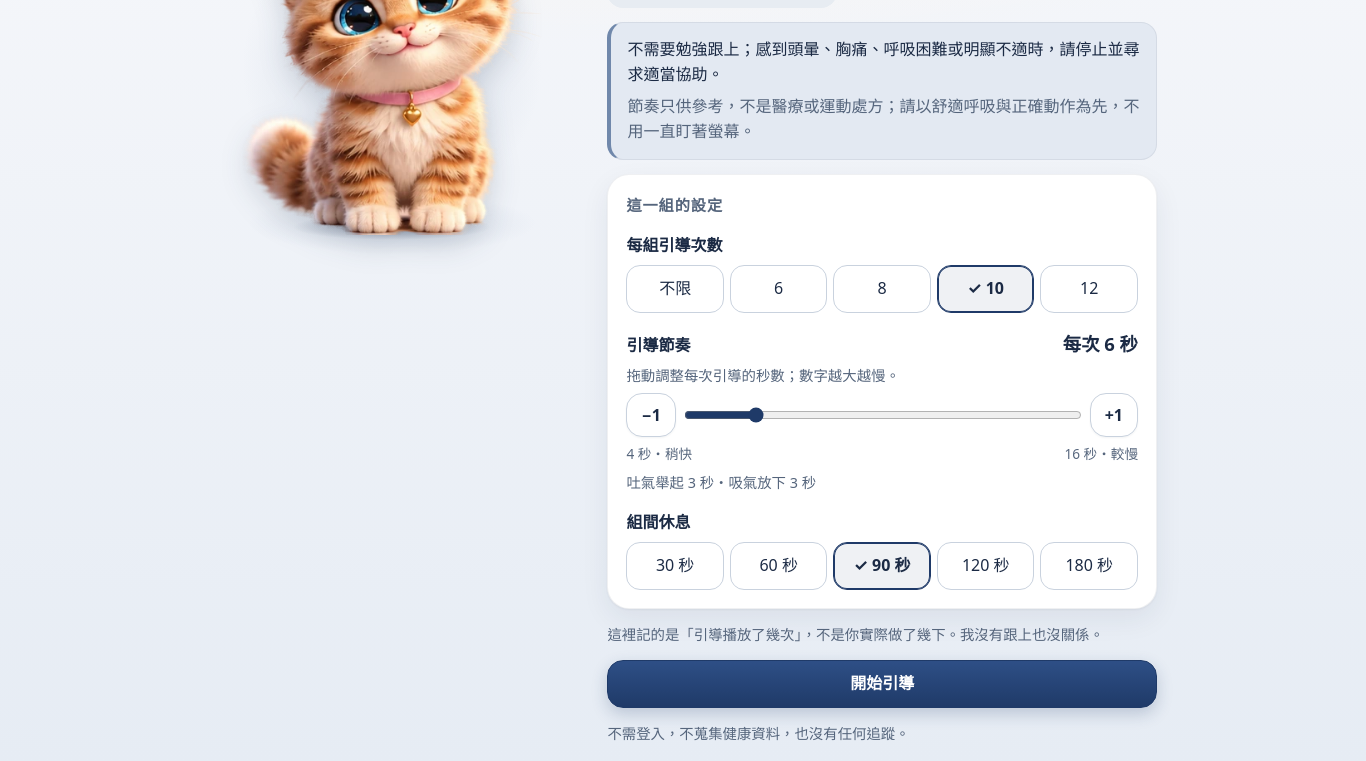
Test: 萌寵能量站 UI › 背景60秒回來維持暫停、次數不變、不自動恢復
(page scrolled)
Click the button "開始引導" at (882, 684), box [607,660,1157,708]
(page scrolled)
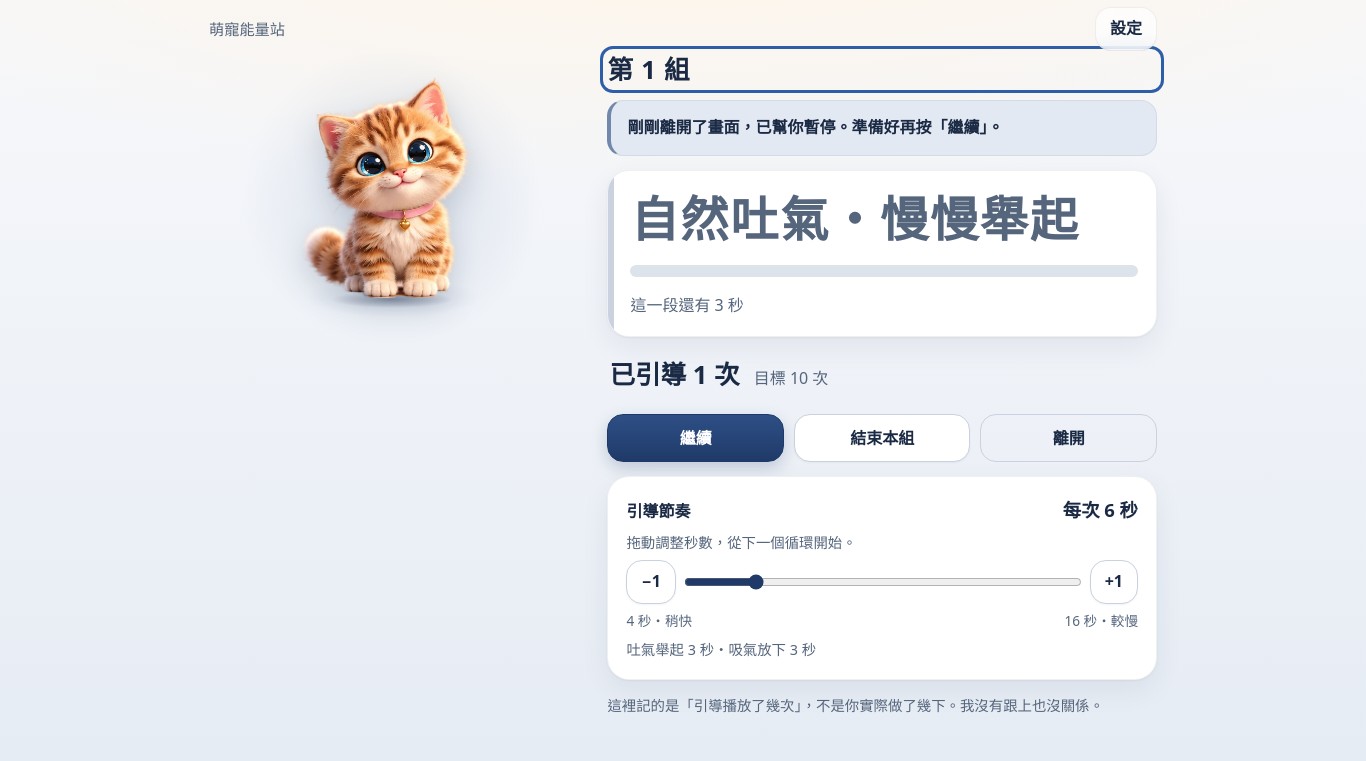
Now the text "剛剛離開了畫面，已幫你暫停。準備好再按「繼續」。" is shown, box [607,100,1157,156]
Now the text "已引導 1 次" is shown, box [609,356,740,396]
Now the button "繼續" is shown, box [607,414,784,462]
